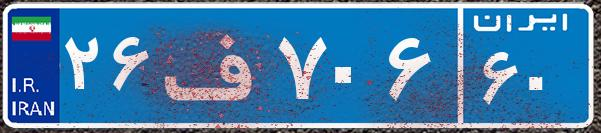0: (330, 28, 385, 110), (525, 38, 570, 115)
2: (57, 26, 110, 107)
6: (385, 28, 445, 110), (475, 38, 525, 113), (110, 28, 158, 105)
7: (273, 28, 330, 110)
ف: (158, 15, 273, 115)
